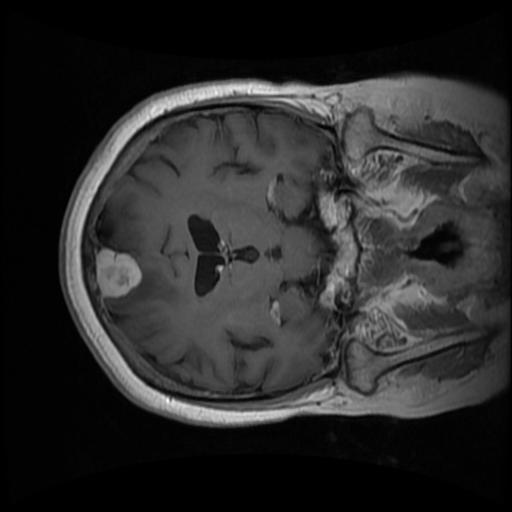meningioma: (95, 248, 142, 297)
